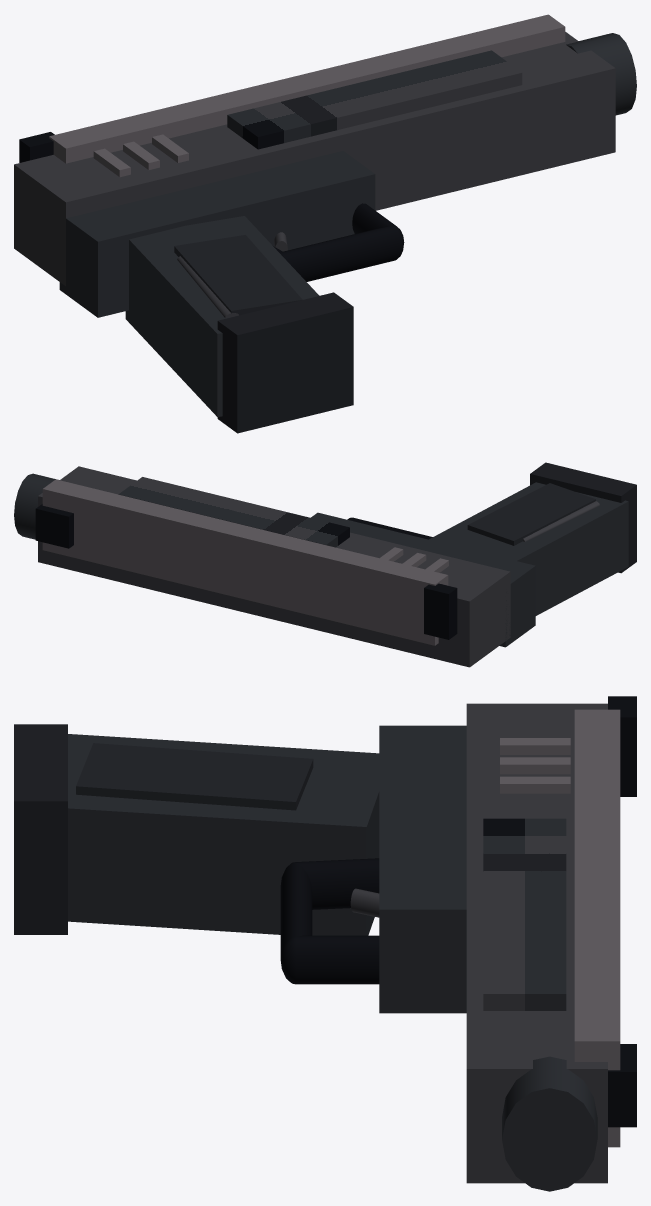
The model's file is CMU3DWorldRMCWeaponPistolB92FSCloud.glb.
3 renders of one model, top to bottom at view 1: azimuth 30°, elevation 25°; view 2: azimuth 150°, elevation 25°; view 3: azimuth 270°, elevation 25°, orthographic. The views are drawn at different scales.
Parts seen in each view (by area): view 1: dark upper slide, lower receiver bridge, magazine floorplate, slide upper bevel, backward slanted grip, source slide face, textured grip inset, open square trigger guard member 2, short muzzle tip, rear sight, open square trigger guard member 3; view 2: slide upper bevel, dark upper slide, backward slanted grip, source slide face, lower receiver bridge, textured grip inset, magazine floorplate, rear sight, short muzzle tip, front sight, backstrap highlight, open square trigger guard member 2; view 3: backward slanted grip, dark upper slide, lower receiver bridge, slide upper bevel, source slide face, textured grip inset, magazine floorplate, short muzzle tip, open square trigger guard member 3, open square trigger guard member 1, open square trigger guard member 2, front sight (+5 smaller).
Part boxes in pixels (x1=…): dark upper slide: x1=14, y1=32, x2=615, y2=286; lower receiver bridge: x1=59, y1=150, x2=375, y2=317; magazine floorplate: x1=217, y1=292, x2=353, y2=433; slide upper bevel: x1=49, y1=14, x2=565, y2=163; backward slanted grip: x1=125, y1=216, x2=319, y2=416; source slide face: x1=227, y1=50, x2=522, y2=149; textured grip inset: x1=174, y1=235, x2=302, y2=315; open square trigger guard member 2: x1=282, y1=225, x2=398, y2=281; short muzzle tip: x1=566, y1=33, x2=636, y2=115; rear sight: x1=19, y1=132, x2=54, y2=162; open square trigger guard member 3: x1=352, y1=203, x2=395, y2=233; slide upper bevel: x1=42, y1=479, x2=448, y2=645; dark upper slide: x1=38, y1=466, x2=510, y2=667; backward slanted grip: x1=429, y1=482, x2=628, y2=615; source slide face: x1=118, y1=477, x2=349, y2=547; lower receiver bridge: x1=311, y1=512, x2=535, y2=647; textured grip inset: x1=467, y1=483, x2=595, y2=545; magazine floorplate: x1=530, y1=462, x2=636, y2=573; rear sight: x1=424, y1=583, x2=457, y2=639; short muzzle tip: x1=14, y1=473, x2=58, y2=539; front sight: x1=35, y1=504, x2=73, y2=548; backstrap highlight: x1=523, y1=501, x2=599, y2=541; open square trigger guard member 2: x1=352, y1=518, x2=432, y2=539; backward slanted grip: x1=68, y1=734, x2=379, y2=935; dark upper slide: x1=466, y1=703, x2=607, y2=1183; lower receiver bridge: x1=379, y1=725, x2=466, y2=1013; slide upper bevel: x1=574, y1=709, x2=620, y2=1147; source slide face: x1=483, y1=818, x2=566, y2=1010; textured grip inset: x1=76, y1=743, x2=313, y2=810; magazine floorplate: x1=14, y1=724, x2=67, y2=934; short muzzle tip: x1=502, y1=1056, x2=597, y2=1191; open square trigger guard member 3: x1=296, y1=935, x2=379, y2=984; open square trigger guard member 1: x1=296, y1=858, x2=379, y2=909; open square trigger guard member 2: x1=280, y1=863, x2=312, y2=958; front sight: x1=608, y1=1044, x2=636, y2=1127.
Size of the model in its own units: 0.6906 by 0.142 by 0.4688.
7 materials, 1 textured.
